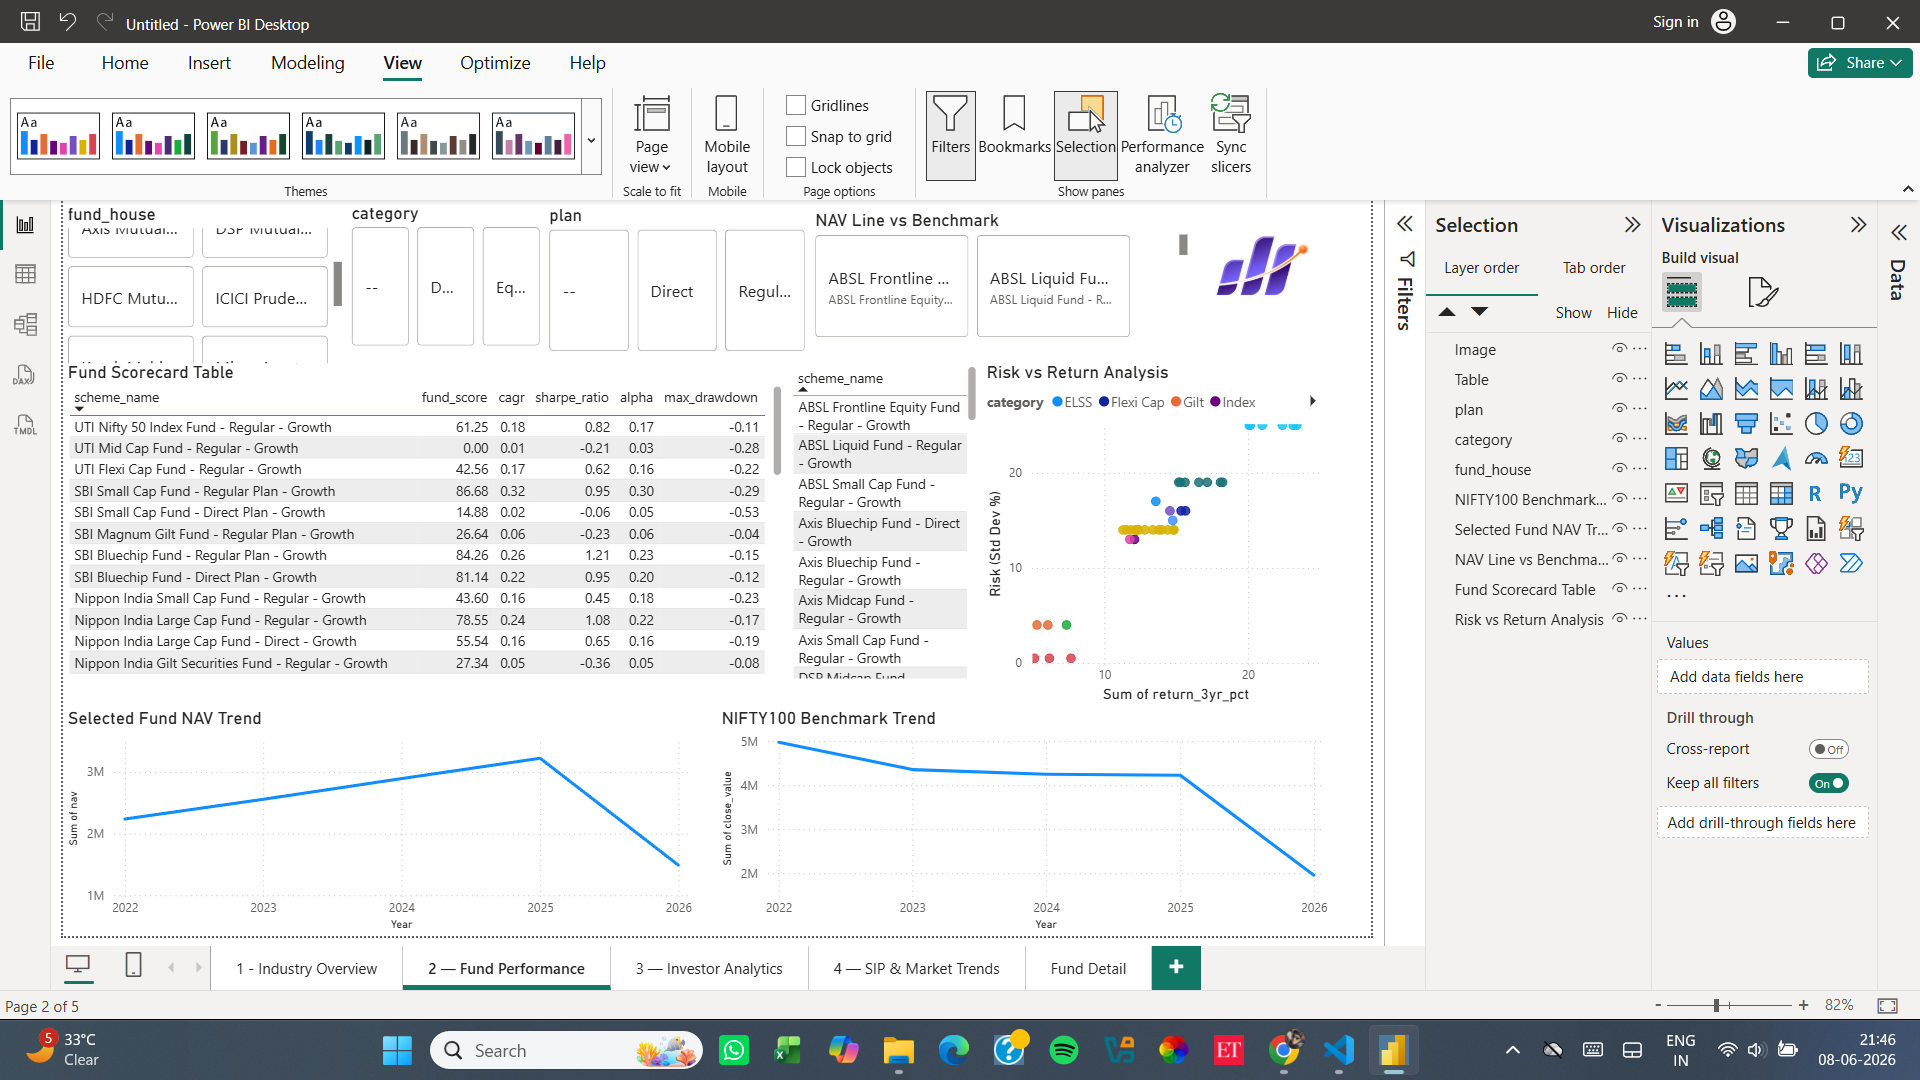

The dashboard page shown, as its layout file describes it:
{"tool":"powerbi","page":{"name":"2 — Fund Performance","canvas":[1280,720],"ordinal":1},"visuals":[{"type":"scatterChart","title":"Risk vs Return Analysis","fields":{"X":["Sum(07_scheme_performance_clean.return_3yr_pct)"],"Y":["Sum(07_scheme_performance_clean.std_dev_ann_pct)"],"Category":["07_scheme_performance_clean.aum_crore"],"Series":["07_scheme_performance_clean.category"]},"box":[898.8,157.8,343.1,338.9],"z":0},{"type":"tableEx","title":"Fund Scorecard Table","fields":{"Values":["fund_scorecard.scheme_name","fund_scorecard.fund_score","fund_scorecard.cagr","fund_scorecard.sharpe_ratio","fund_scorecard.alpha","fund_scorecard.max_drawdown"]},"box":[0,157.8,708.1,315.6],"z":1000},{"type":"advancedSlicerVisual","title":"NAV Line vs Benchmark","fields":{"Values":["01_fund_master_clean.scheme_name"],"Label":["Min(01_fund_master_clean.scheme_name)"]},"box":[731.3,9.8,374.2,138.2],"z":2000},{"type":"lineChart","title":"Selected Fund NAV Trend","fields":{"Category":["02_nav_history_clean.date.Variation.Date Hierarchy.Year","02_nav_history_clean.date.Variation.Date Hierarchy.Quarter","02_nav_history_clean.date.Variation.Date Hierarchy.Month","02_nav_history_clean.date.Variation.Date Hierarchy.Day"],"Y":["Sum(02_nav_history_clean.nav)"]},"box":[0,496.7,620.2,223.7],"z":3000},{"type":"lineChart","title":"NIFTY100 Benchmark Trend","fields":{"Category":["10_benchmark_indices_clean.date.Variation.Date Hierarchy.Year","10_benchmark_indices_clean.date.Variation.Date Hierarchy.Quarter","10_benchmark_indices_clean.date.Variation.Date Hierarchy.Month","10_benchmark_indices_clean.date.Variation.Date Hierarchy.Day"],"Y":["Sum(10_benchmark_indices_clean.close_value)"]},"box":[639.5,496.7,602.4,223.7],"z":4000},{"type":"advancedSlicerVisual","fields":{"Values":["01_fund_master_clean.fund_house"]},"box":[0,3.7,278.8,157.7],"z":5000},{"type":"advancedSlicerVisual","fields":{"Values":["01_fund_master_clean.category"]},"box":[277.6,2.4,194,145.5],"z":6000},{"type":"advancedSlicerVisual","fields":{"Values":["01_fund_master_clean.plan"]},"box":[470.8,4.9,260.5,149.2],"z":7000},{"type":"tableEx","fields":{"Values":["01_fund_master_clean.scheme_name"]},"box":[708.1,157.8,190.7,315.6],"z":7001},{"type":"image","box":[1114,0,117.4,129.6],"z":7002}]}

Visuals, with their boxes on the page's 1280x720 design canvas (x1, y1, x2, y2). These are canvas units, not pixel positions in the 1920x1080 screenshot, which may show the page scaled, cropped or inside an application window:
"Risk vs Return Analysis" scatterChart: select_region(899, 158, 1242, 497)
"Fund Scorecard Table" tableEx: select_region(0, 158, 708, 473)
"NAV Line vs Benchmark" advancedSlicerVisual: select_region(731, 10, 1106, 148)
"Selected Fund NAV Trend" lineChart: select_region(0, 497, 620, 720)
"NIFTY100 Benchmark Trend" lineChart: select_region(640, 497, 1242, 720)
advancedSlicerVisual - 01_fund_master_clean.fund_house: select_region(0, 4, 279, 161)
advancedSlicerVisual - 01_fund_master_clean.category: select_region(278, 2, 472, 148)
advancedSlicerVisual - 01_fund_master_clean.plan: select_region(471, 5, 731, 154)
tableEx - 01_fund_master_clean.scheme_name: select_region(708, 158, 899, 473)
image: select_region(1114, 0, 1231, 130)
